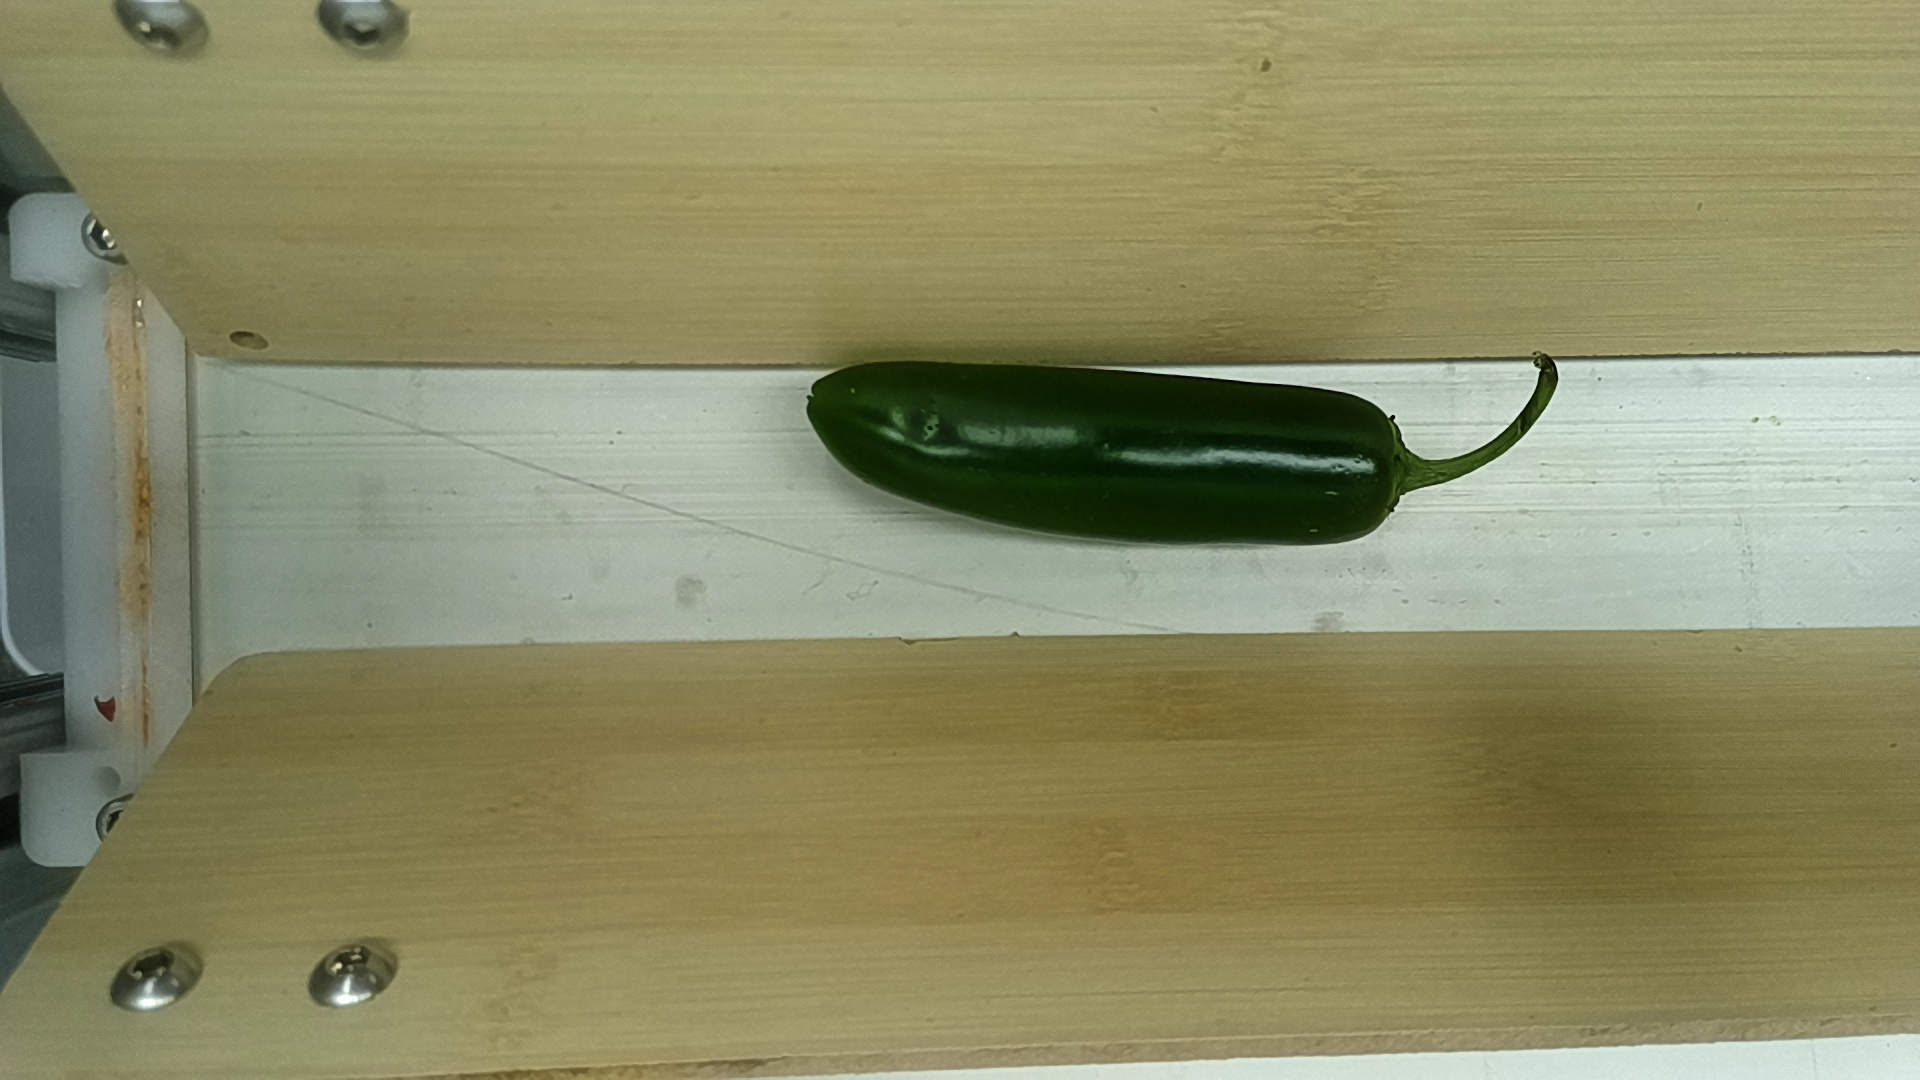Cut Point: (1342, 388, 1431, 541)
